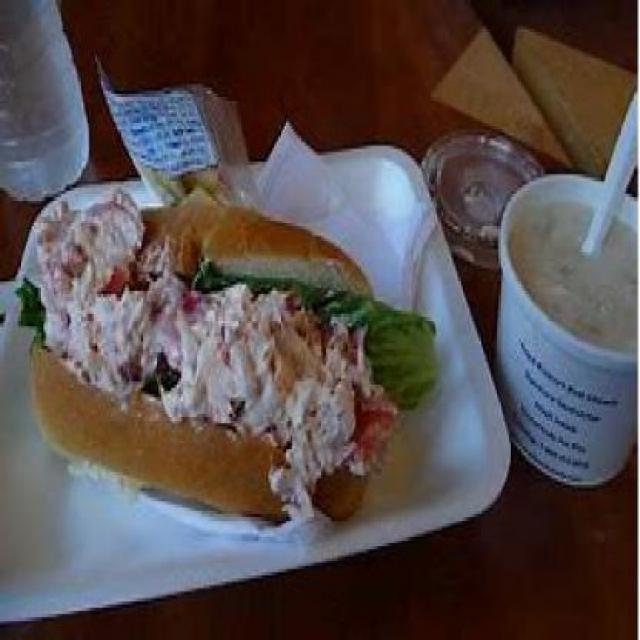clam chowder: (473, 139, 638, 510)
club sandwich: (5, 181, 438, 536)
